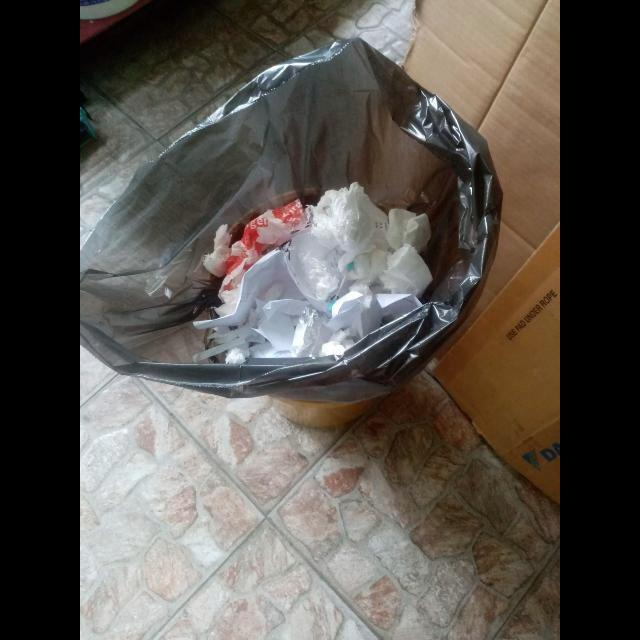paper: (203, 199, 313, 318), (192, 249, 281, 332), (310, 182, 377, 273), (325, 287, 385, 340), (375, 244, 433, 298), (252, 299, 312, 351), (385, 208, 432, 256), (299, 255, 341, 302), (376, 293, 423, 320), (224, 342, 250, 364)
